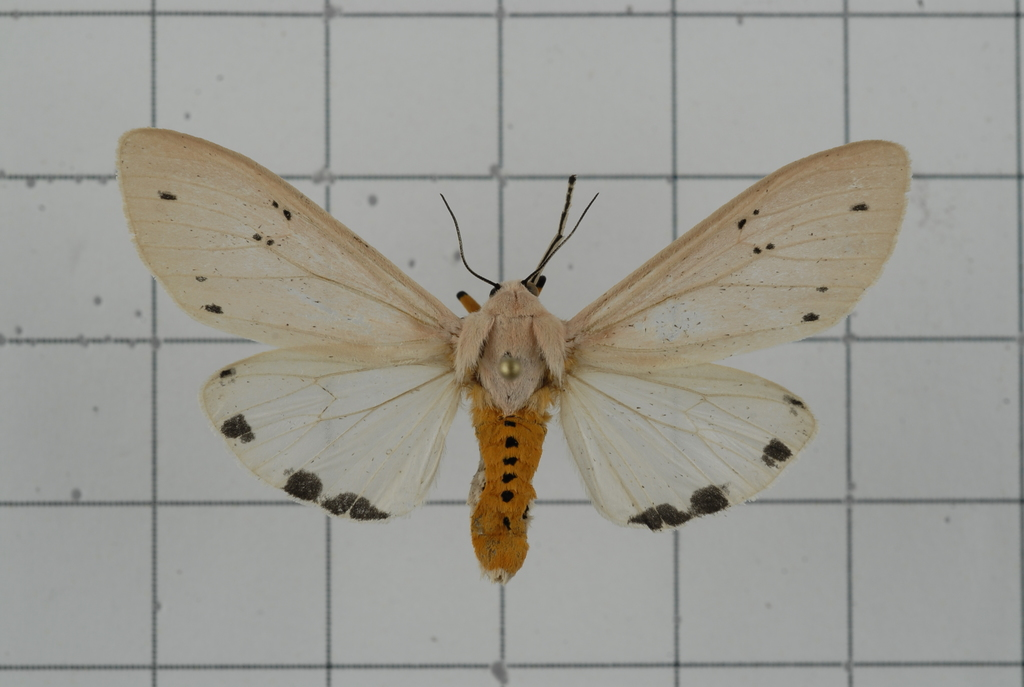Butterfly: (95, 86, 938, 592)
